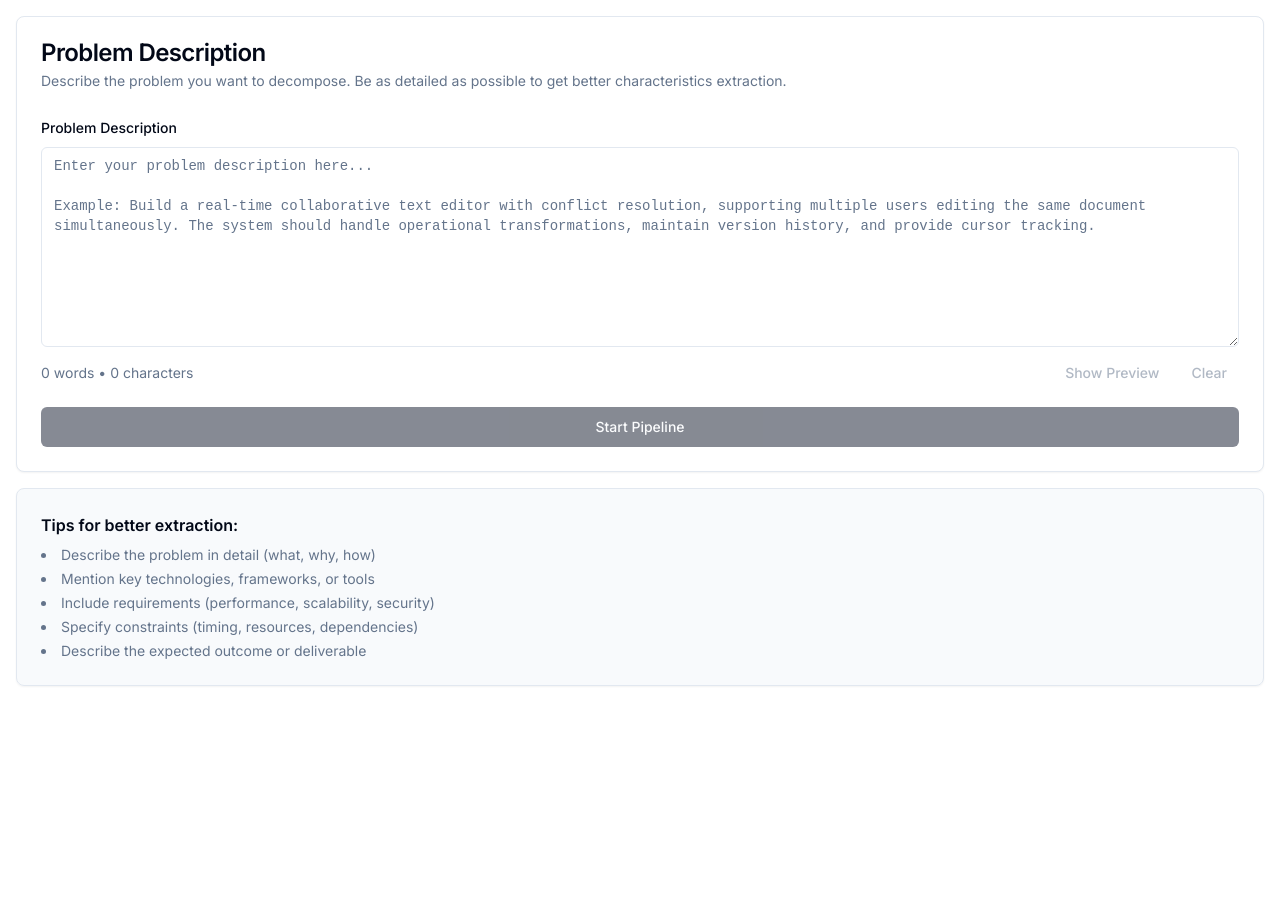
it: ProblemInputDisplay › Text Input › should update character and word count as user types
The width and height of the screenshot is (1280, 900).
Replace the text in the text box named "Problem description input" with "Hello world test": (640, 247) top-left (41, 147), bottom-right (1239, 347)
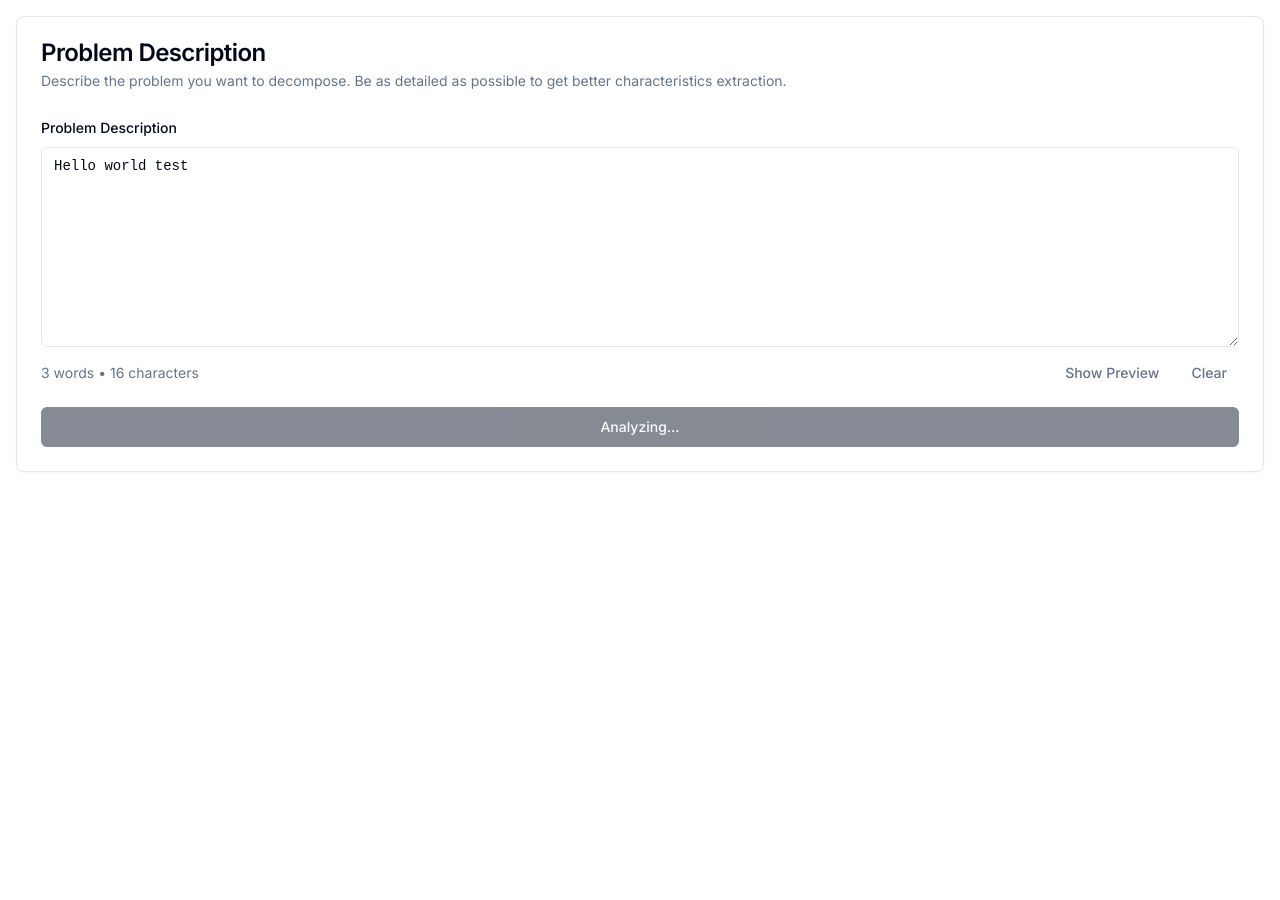
Expected: the text "3 words • 16 characters" is shown, top-left (41, 363), bottom-right (199, 383)
